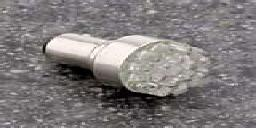LED: (41, 31, 210, 106)
